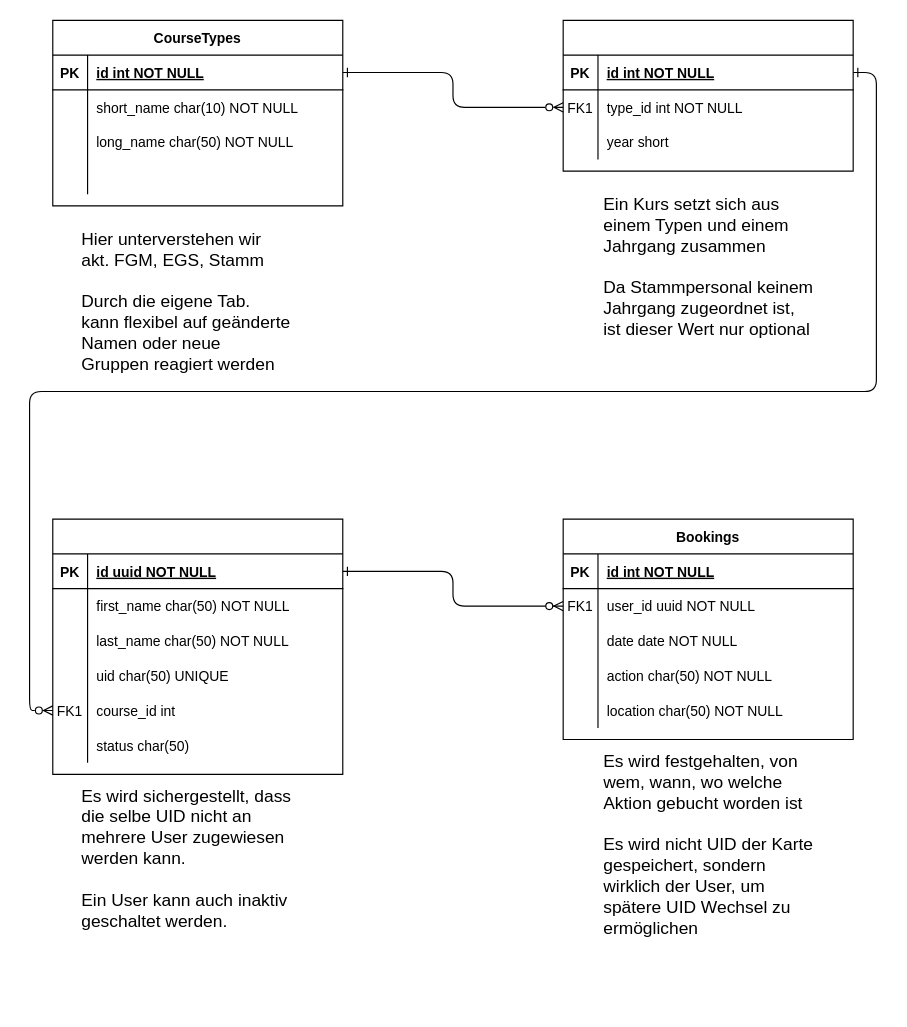
Image size: 907x1027. Some labels were removed from this diagram. The box of each missing label's shape, as (x1, y1, x2, y2) in pixels:
Courses: (562, 19, 853, 171)
Users: (52, 518, 343, 774)
